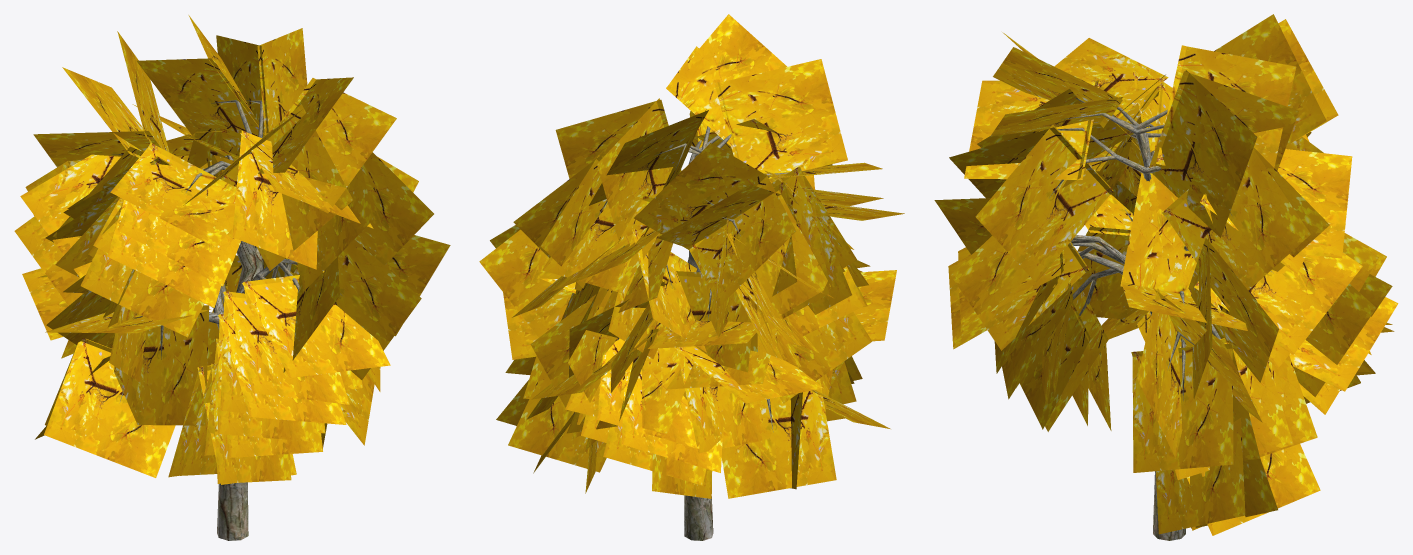
3 views of the same model, side by side, from view 1: azimuth 30°, elevation 25°; view 2: azimuth 150°, elevation 25°; view 3: azimuth 270°, elevation 25° (orthographic). The views are drawn at different scales.
Visible parts, largest first — view 1: twig_004, tree_004; view 2: twig_004, tree_004; view 3: twig_004, tree_004.
Boxes of the visible parts, x1=… form: twig_004: x1=14, y1=15, x2=450, y2=484; tree_004: x1=112, y1=100, x2=342, y2=540; twig_004: x1=479, y1=14, x2=904, y2=498; tree_004: x1=574, y1=126, x2=813, y2=540; twig_004: x1=934, y1=14, x2=1398, y2=535; tree_004: x1=1043, y1=98, x2=1273, y2=540.
Bounding box in the file's own units: 5.48 × 5.33 × 6.45.
2 materials, 2 textured.
